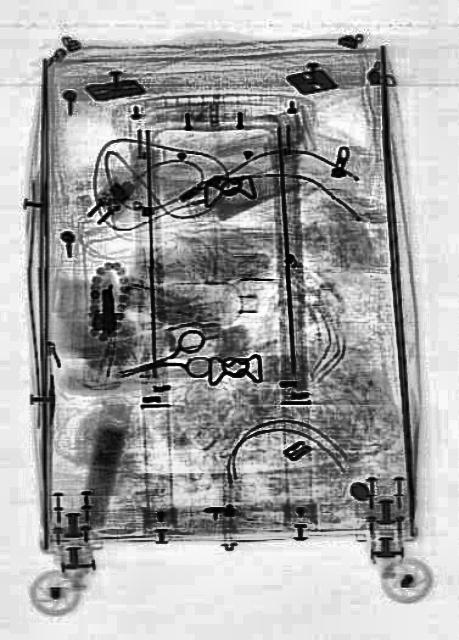Scissors: (113, 322, 212, 400)
